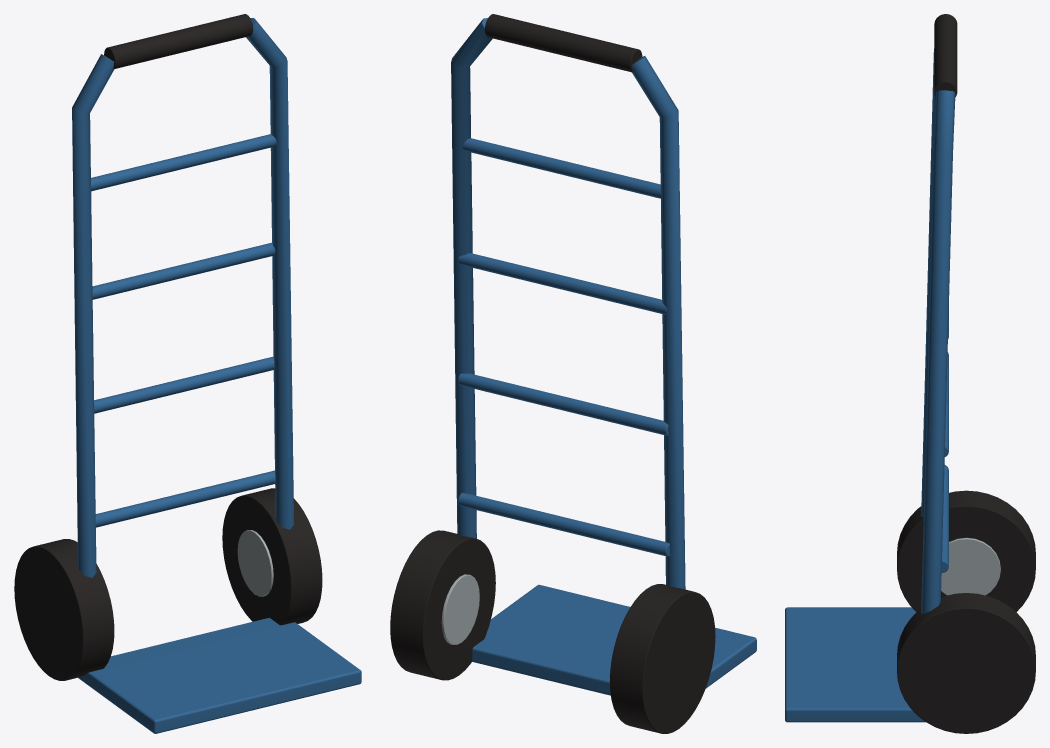
File: hand_truck.glb
The picture shows the model from 3 angles, left to right: view 1: azimuth 30°, elevation 25°; view 2: azimuth 150°, elevation 25°; view 3: azimuth 270°, elevation 25°; orthographic projection. The views are drawn at different scales.
Visible parts, largest first — view 1: Frame cross brace, Hand truck tire, Wheel hub; view 2: Frame cross brace, Hand truck tire, Wheel hub; view 3: Frame cross brace, Hand truck tire, Wheel hub.
Part boxes in pixels (<box>): Frame cross brace: <box>72,18,361,733</box>; Hand truck tire: <box>14,14,322,680</box>; Wheel hub: <box>237,530,273,596</box>; Frame cross brace: <box>451,18,756,695</box>; Hand truck tire: <box>390,14,715,733</box>; Wheel hub: <box>441,574,479,644</box>; Frame cross brace: <box>785,48,955,722</box>; Hand truck tire: <box>897,14,1035,733</box>; Wheel hub: <box>941,537,1000,595</box>.
Bounding box in the file's own units: 0.461 × 1.14 × 0.4149.
3 materials, 3 textured.
